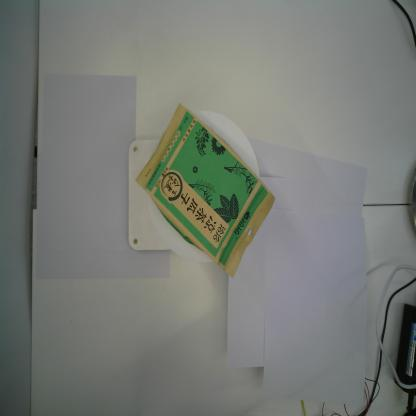Dried Food: (134, 100, 277, 279)
